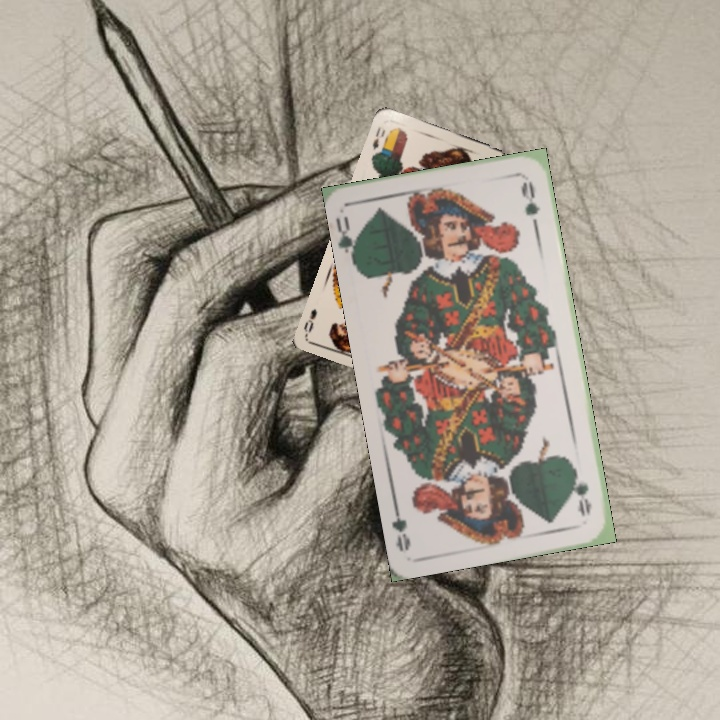EO: (368, 123, 388, 153)
GO: (334, 212, 364, 267), (568, 463, 594, 519)
